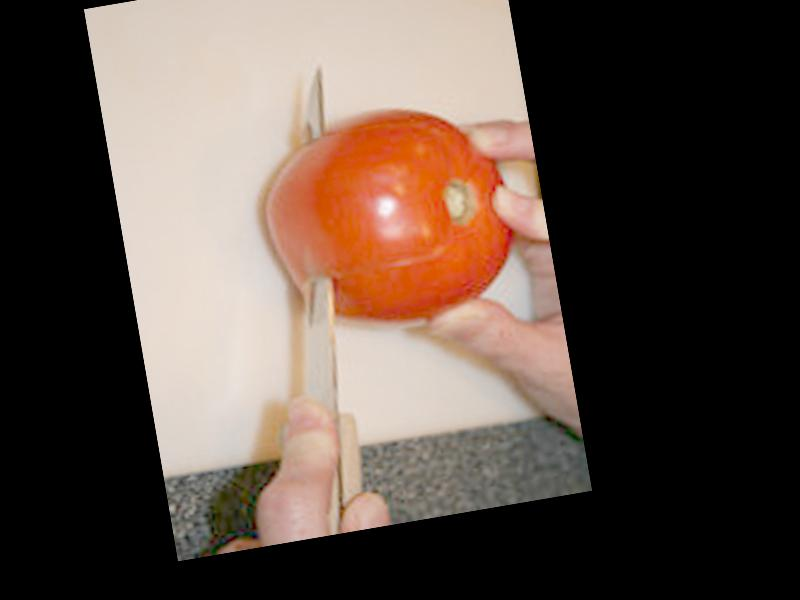Tomato: (252, 89, 526, 342)
